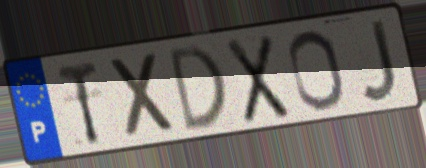D: (165, 41, 230, 136)
J: (357, 16, 400, 105)
O: (285, 27, 349, 113)
T: (53, 57, 103, 149)
X: (106, 49, 180, 143), (223, 32, 293, 128)
